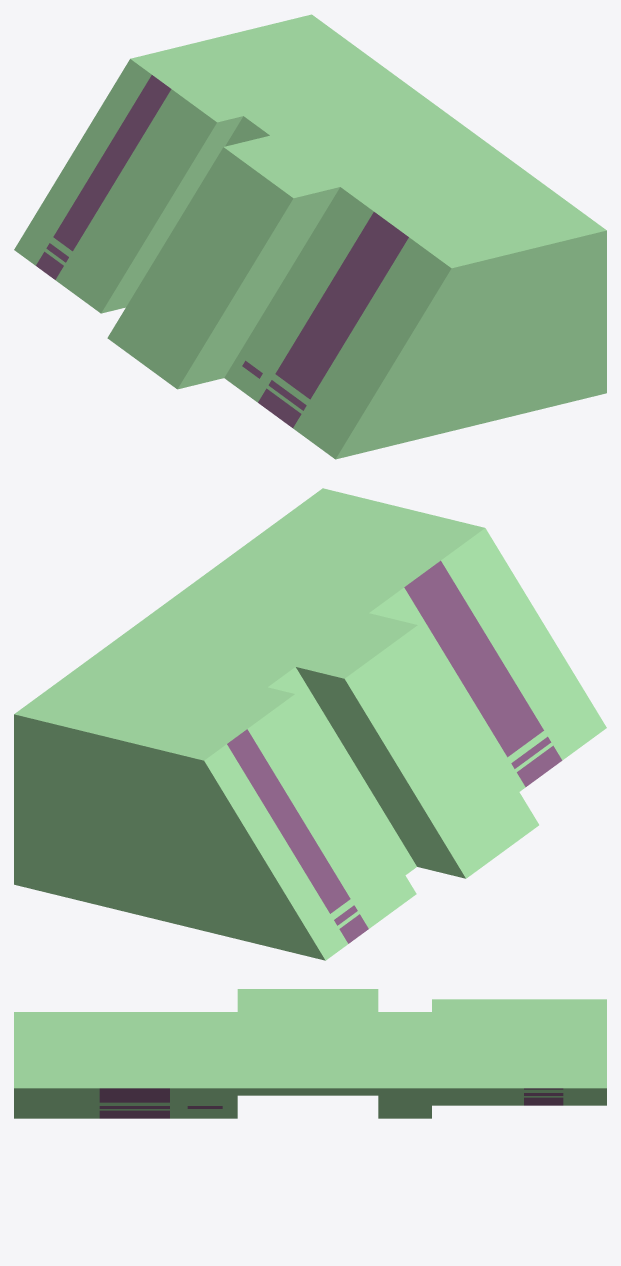
The model's file is building3.glb.
3 views of the same model, one above another, from view 1: azimuth 30°, elevation 25°; view 2: azimuth 150°, elevation 25°; view 3: azimuth 270°, elevation 25° (orthographic). The views are drawn at different scales.
Parts seen in each view (by area): view 1: building3; view 2: building3; view 3: building3.
Boxes of the visible parts, left/top/right/bottom form: building3: left=14, top=14, right=606, bottom=459; building3: left=14, top=488, right=606, bottom=960; building3: left=14, top=989, right=606, bottom=1118.
Size of the model in its own units: 27.21 by 13.3 by 43.7.
